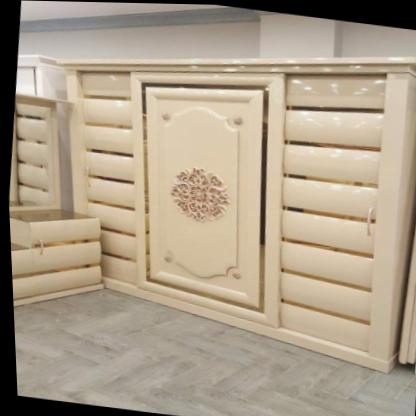Closet: (55, 55, 416, 372)
Wooden floor: (11, 288, 413, 416)
